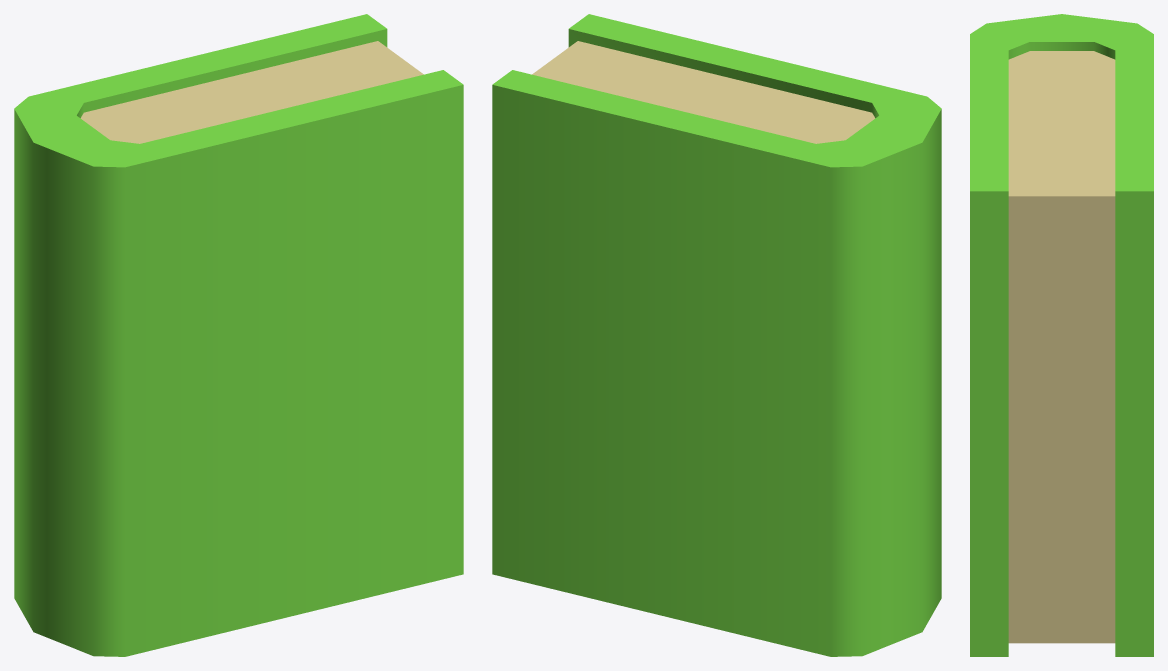
File: PR_Book.fbx
3 renders of one model, left to right at view 1: azimuth 30°, elevation 25°; view 2: azimuth 150°, elevation 25°; view 3: azimuth 270°, elevation 25°, orthographic. The views are drawn at different scales.
Visible parts, largest first — view 1: PR_Book; view 2: PR_Book; view 3: PR_Book.
Part boxes in pixels (<box>): PR_Book: <box>14,14,463,656</box>; PR_Book: <box>492,14,941,656</box>; PR_Book: <box>970,14,1153,656</box>.
Bounding box in the file's own units: 36.03 × 44.14 × 15.79.
